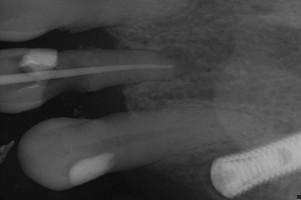Furcation Involvement: (159, 46, 210, 78)
